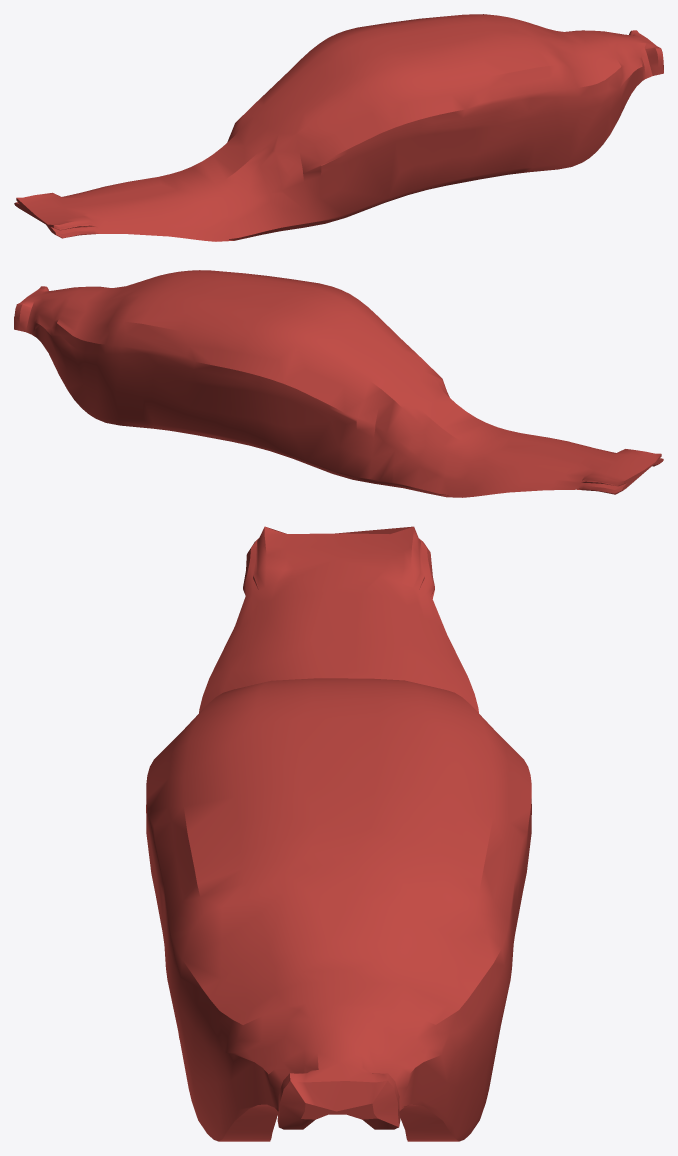
File: adventure_2_lod2.glb
3 renders of one model, top to bottom at view 1: azimuth 30°, elevation 25°; view 2: azimuth 150°, elevation 25°; view 3: azimuth 270°, elevation 25°, orthographic. The views are drawn at different scales.
Parts seen in each view (by area): view 1: adventure_2_lod2; view 2: adventure_2_lod2; view 3: adventure_2_lod2.
Boxes of the visible parts, <box> form: adventure_2_lod2: <box>14,14,663,241</box>; adventure_2_lod2: <box>14,270,663,497</box>; adventure_2_lod2: <box>146,526,531,1141</box>.
Size of the model in its own units: 1.61 by 0.3302 by 0.4348.
